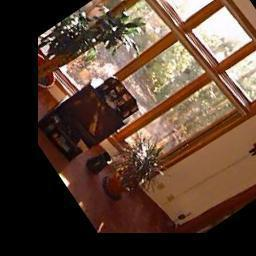Matera: (0, 0, 144, 114), (94, 139, 169, 207)
Otro Obstaculo: (36, 73, 143, 171)
